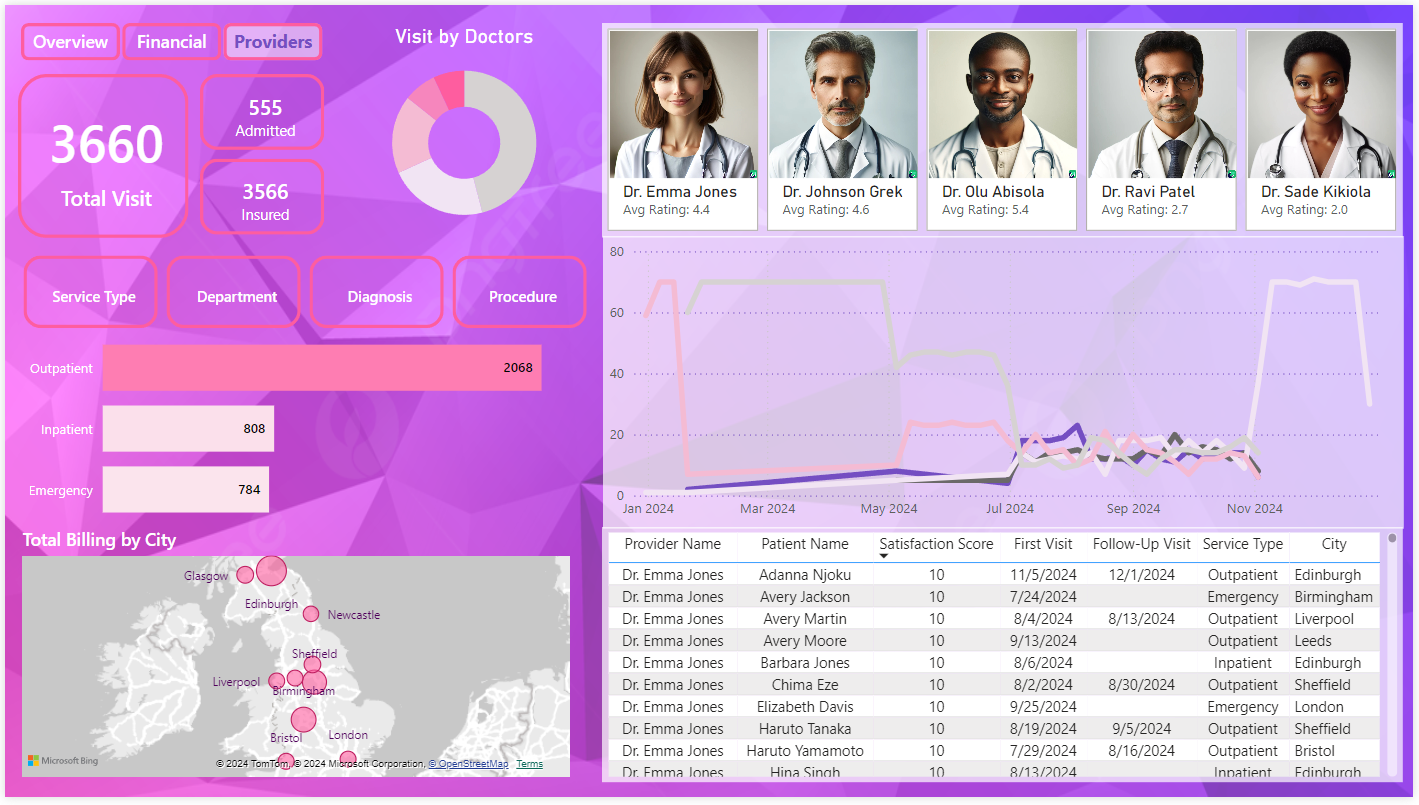

Layout of this report page (visuals, bound fields, positions):
{"tool":"powerbi","page":{"name":"Providers","canvas":[1280,720],"ordinal":2},"visuals":[{"type":"cardVisual","fields":{"Data":["_All Measures.Total Visit"]},"box":[12,62.7,155.7,149.3],"z":0},{"type":"cardVisual","fields":{"Data":["_All Measures.Total Visit Admitted","_All Measures.Total Visit With Insurance"]},"box":[176.9,62.7,113.3,147.4],"z":1000},{"type":"pageNavigator","box":[14.7,16.6,275.5,34.1],"z":2000},{"type":"advancedSlicerVisual","fields":{"Values":["Total Visit By.Visit By"]},"box":[11.7,222.5,522.4,76.3],"z":3000},{"type":"barChart","fields":{"Category":["diagnoses.Diagnosis"],"Y":["_All Measures.Total Visit"]},"box":[11.7,273.4,519.2,217.2],"z":4000},{"type":"lineChart","title":"Total Visit by Doctor","fields":{"Category":["Calendar.Date (bins)"],"Series":["providers.Provider Name"],"Y":["_All Measures.Total Visit"]},"box":[543.6,209.8,727.9,266],"z":5000},{"type":"advancedSlicerVisual","fields":{"Values":["providers.Provider Name"]},"box":[543.1,16.8,727.9,194.9],"z":6000},{"type":"donutChart","title":"Visit by Doctors","fields":{"Y":["_All Measures.Total Visit"],"Category":["providers.Provider Name"]},"box":[300.9,17,233.1,195],"z":7000},{"type":"map","fields":{"Category":["cities.City"],"Size":["_All Measures.Total Billing"]},"box":[11.2,474.8,278.8,231.8],"z":8000},{"type":"tableEx","fields":{"Values":["providers.Provider Name","patients.Patient Name","Sum(visits_good.Patient Satisfaction Score)","Calendar.Date","visits_good.Follow-Up Visit Date","visits_good.Service Type","cities.City"]},"box":[544,475,727,232],"z":9000},{"type":"hundredPercentStackedBarChart","title":"Gender Percentage and Age","fields":{"Y":["_All Measures.Total Visit"],"Series":["patients.Gender"]},"box":[291.4,425.7,242.1,72.1],"z":9001},{"type":"treemap","fields":{"Group":["patients.Age (groups)"],"Values":["_All Measures.Total Visit"]},"box":[292.1,497.9,242.1,208.6],"z":9002}]}

Visuals, with their boxes in screenshot pixels (x1, y1, x2, y2), scaled from the page's 1280x720 canvas onto the 1419x805 screenshot:
cardVisual - _All Measures.Total Visit: region(13, 70, 186, 237)
cardVisual - _All Measures.Total Visit Admitted x _All Measures.Total Visit With Insurance: region(196, 70, 322, 235)
pageNavigator: region(16, 19, 322, 57)
advancedSlicerVisual - Total Visit By.Visit By: region(13, 249, 592, 334)
barChart - diagnoses.Diagnosis x _All Measures.Total Visit: region(13, 306, 589, 549)
"Total Visit by Doctor" lineChart: region(603, 235, 1410, 532)
advancedSlicerVisual - providers.Provider Name: region(602, 19, 1409, 237)
"Visit by Doctors" donutChart: region(334, 19, 592, 237)
map - cities.City x _All Measures.Total Billing: region(12, 531, 321, 790)
tableEx - providers.Provider Name x patients.Patient Name: region(603, 531, 1409, 790)
"Gender Percentage and Age" hundredPercentStackedBarChart: region(323, 476, 591, 557)
treemap - patients.Age (groups) x _All Measures.Total Visit: region(324, 557, 592, 790)
